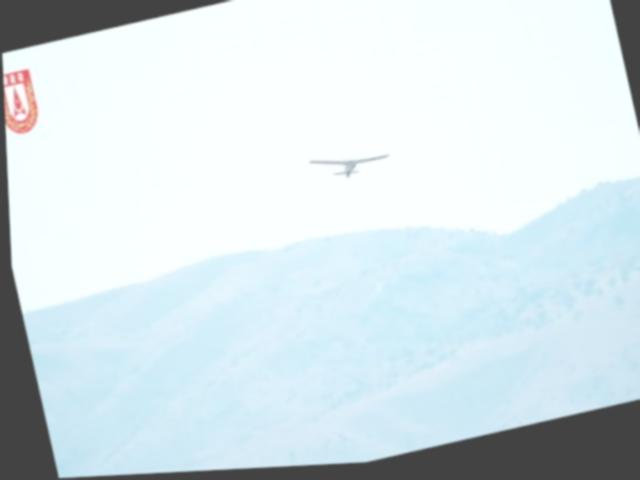uav: (305, 142, 392, 192)
